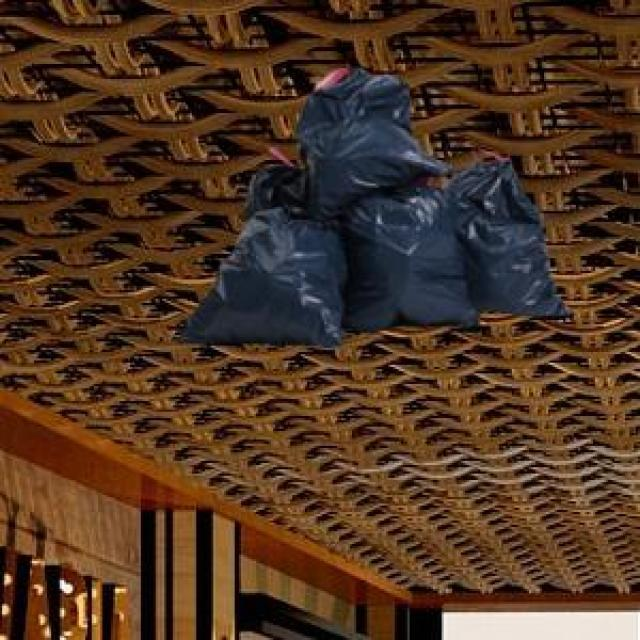miscellaneous trash: (175, 64, 568, 344)
